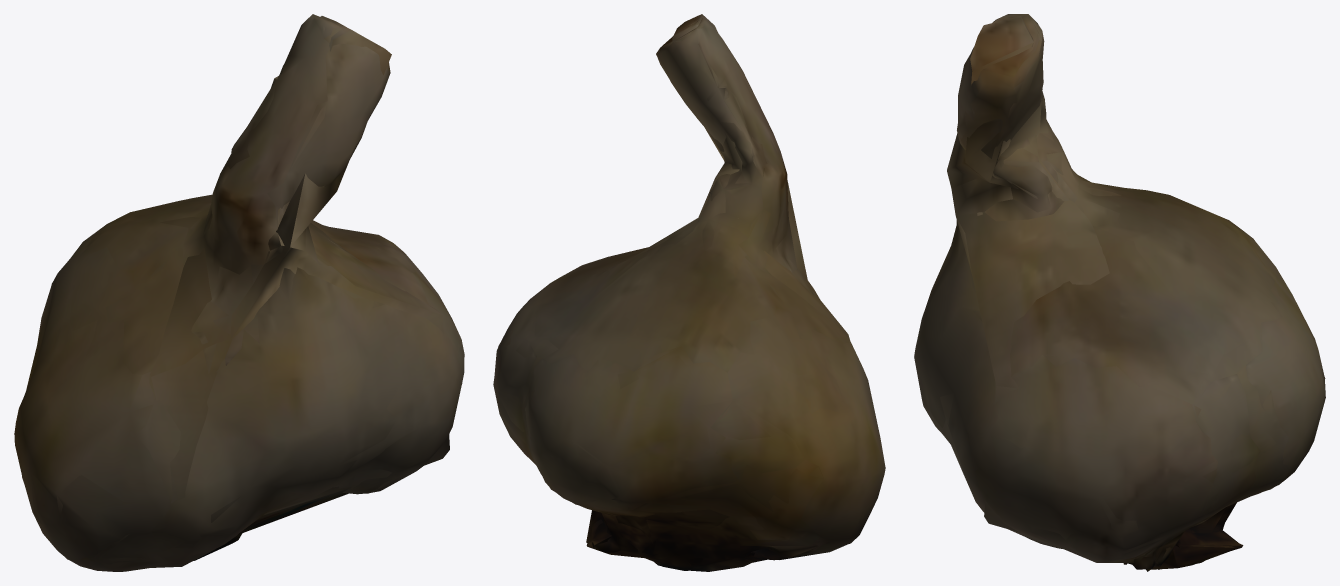
File: imp-garlic.glb
3 renders of one model, left to right at view 1: azimuth 30°, elevation 25°; view 2: azimuth 150°, elevation 25°; view 3: azimuth 270°, elevation 25°, orthographic. The views are drawn at different scales.
Parts seen in each view (by area): view 1: Kerbside_metres_ground_pivot (×3); view 2: Kerbside_metres_ground_pivot (×3); view 3: Kerbside_metres_ground_pivot (×3).
Boxes of the visible parts, left/top/right/bottom form: Kerbside_metres_ground_pivot (×3): left=14, top=14, right=464, bottom=571; Kerbside_metres_ground_pivot (×3): left=493, top=14, right=885, bottom=571; Kerbside_metres_ground_pivot (×3): left=914, top=14, right=1325, bottom=571.
Size of the model in its own units: 0.0492 by 0.065 by 0.0427.
1 material, 1 textured.
